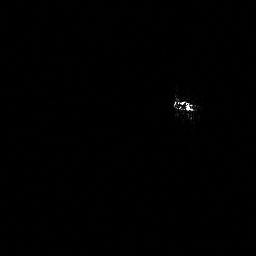ship: (169, 94, 202, 122)
